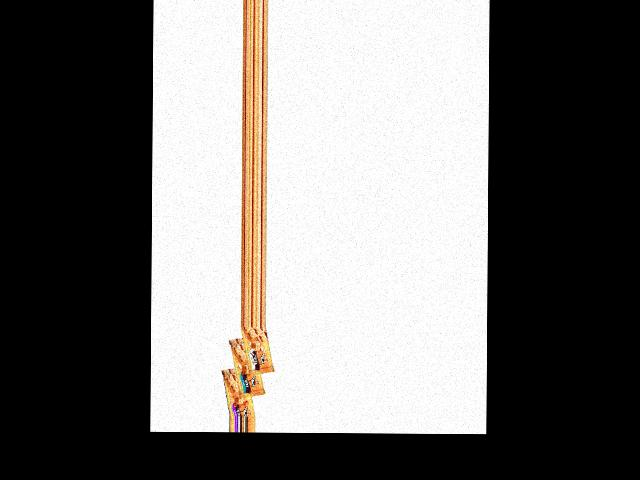chocolate: (224, 363, 256, 417)
